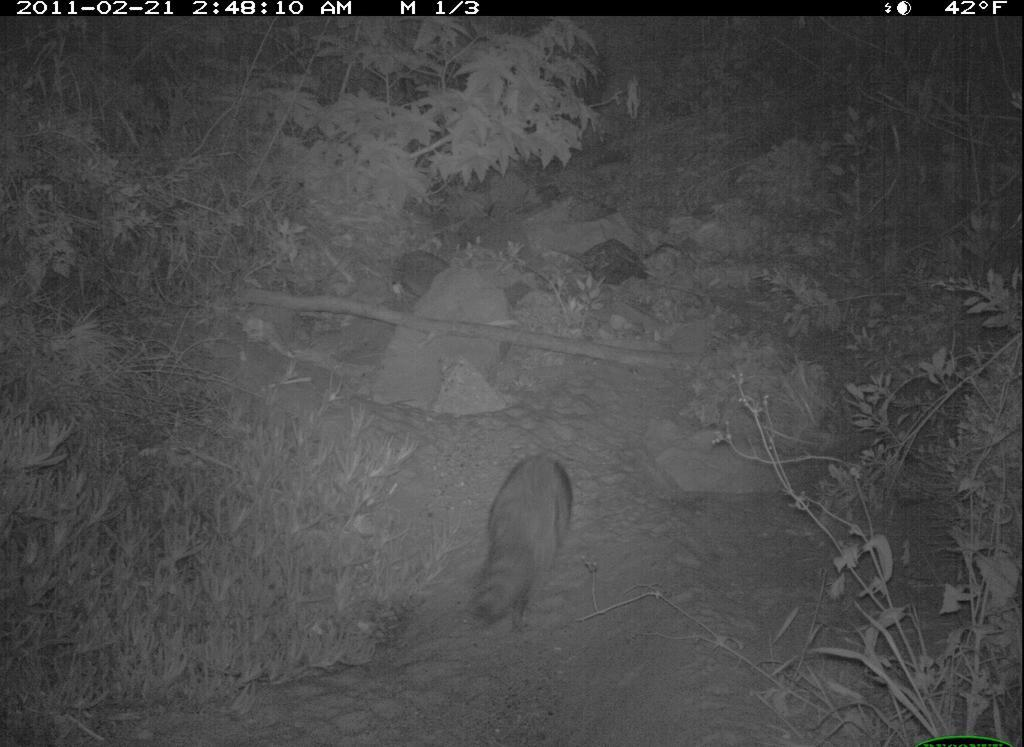raccoon: (464, 451, 580, 639)
